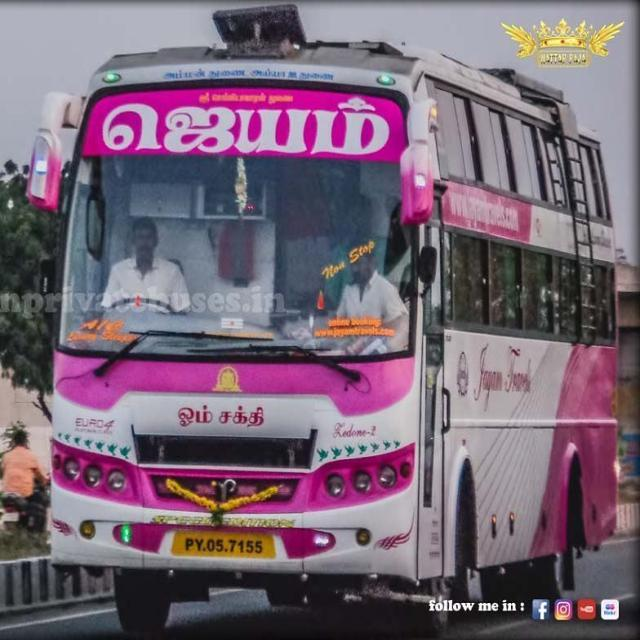Bus: (18, 3, 616, 640)
